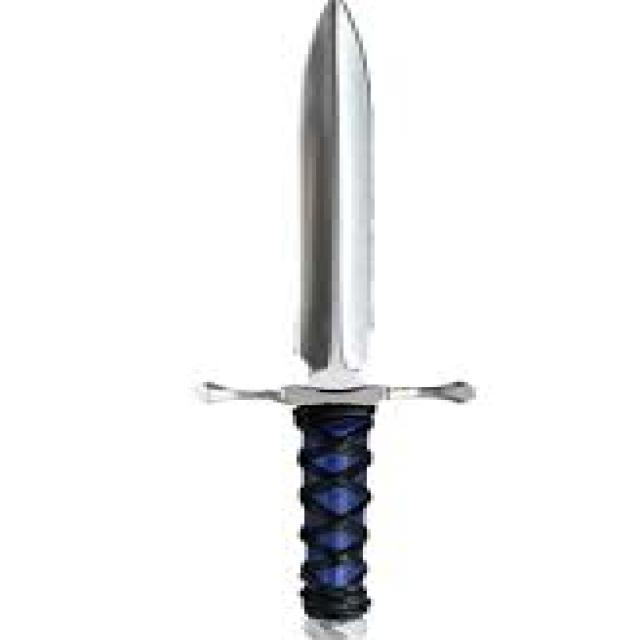Gun: (207, 0, 484, 640)
